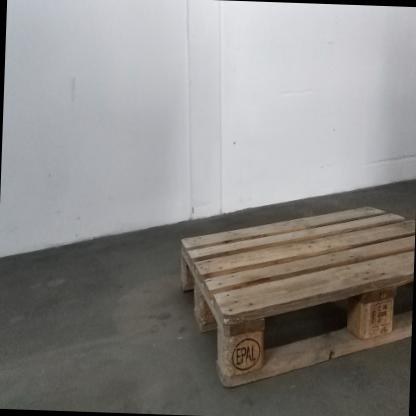BoxFace: (179, 201, 416, 399)
